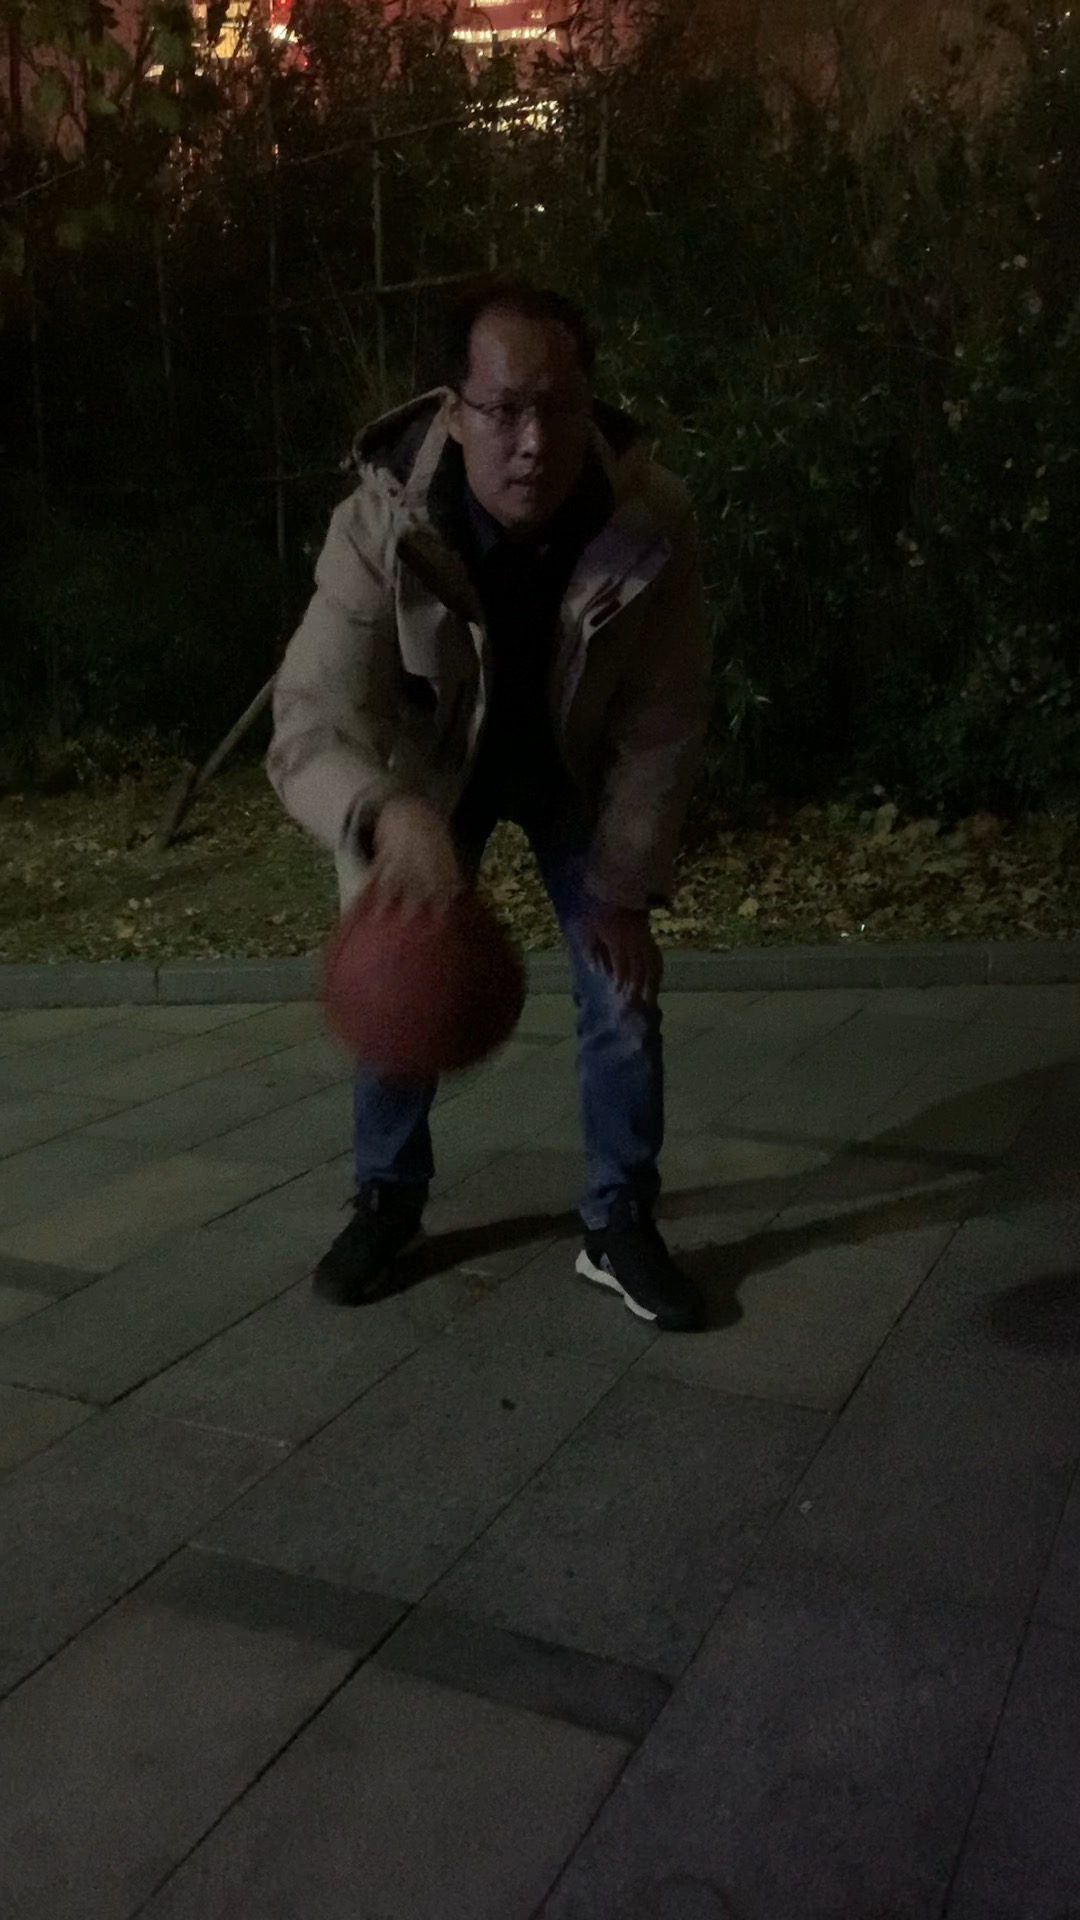ball: (324, 882, 531, 1076)
